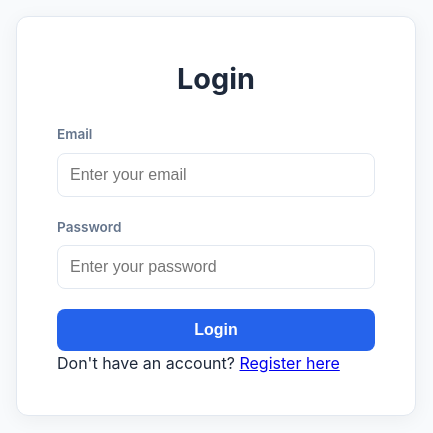
it: Login Page › disables submit button while loading
The image size is (433, 433).
Type "test@example.com" into the field with placeholder "Enter your email". click: x=216, y=175
box: 57,153 -> 375,197
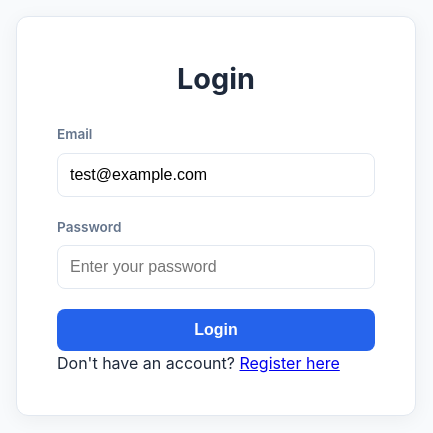
Type "password123" into the password field with placeholder "Enter your password". click: x=216, y=267
box: 57,245 -> 375,289
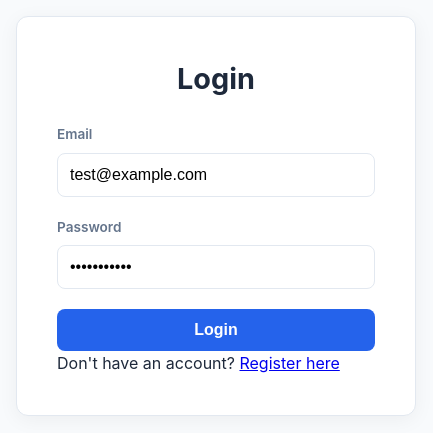
Click the button "Login". click: x=216, y=330
box: 57,309 -> 375,351
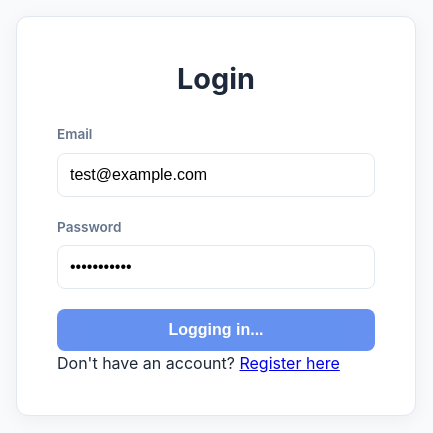
Check: the button named "login" is disabled, box 57,309 -> 375,351
